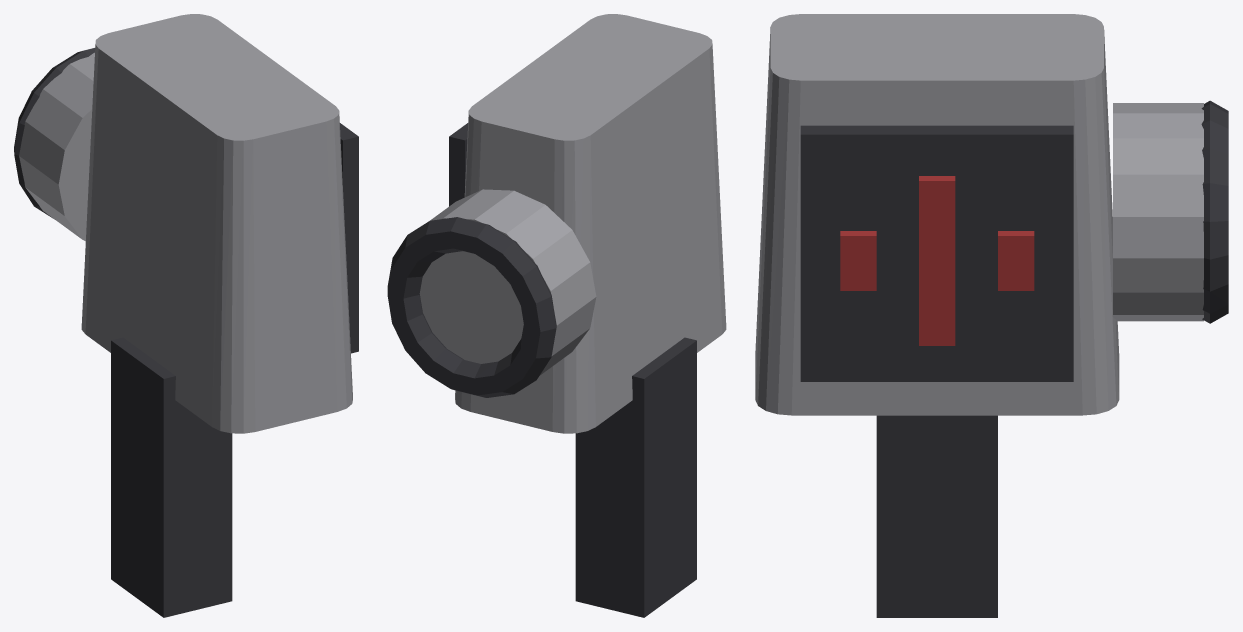
File: person_tool_vge_bombardment_targeter.obj
3 views of the same model, side by side, from view 1: azimuth 30°, elevation 25°; view 2: azimuth 150°, elevation 25°; view 3: azimuth 270°, elevation 25° (orthographic). The views are drawn at different scales.
Parts seen in each view (by area): view 1: person_tool_vge_bombardment_targeter; view 2: person_tool_vge_bombardment_targeter; view 3: person_tool_vge_bombardment_targeter.
Boxes of the visible parts, x1,y1,x2,y2 form: person_tool_vge_bombardment_targeter: (14, 14, 358, 617); person_tool_vge_bombardment_targeter: (387, 14, 726, 617); person_tool_vge_bombardment_targeter: (755, 14, 1228, 617).
Size of the model in its own units: 0.077 by 0.21 by 0.1561.
